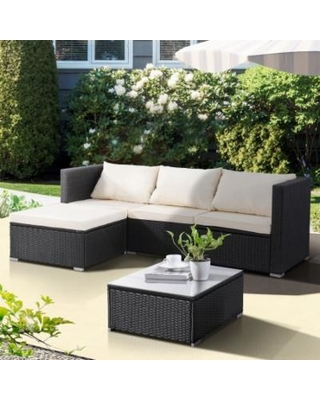chairs: (8, 166, 315, 276)
